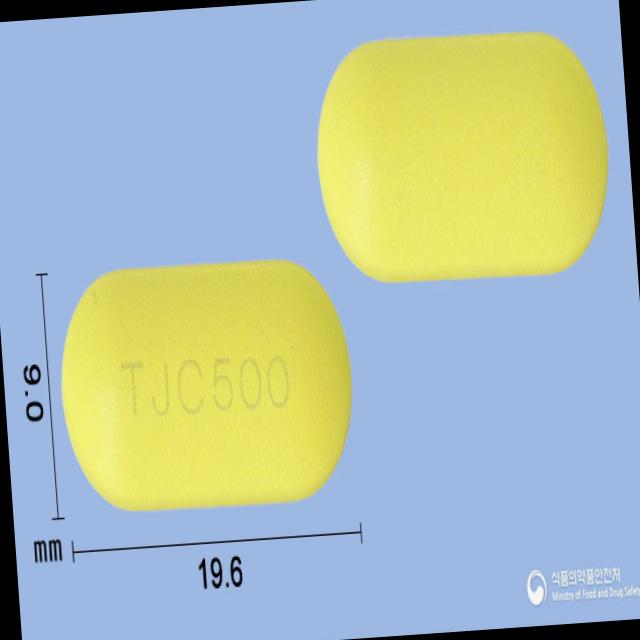Clarix: (49, 248, 360, 522)
